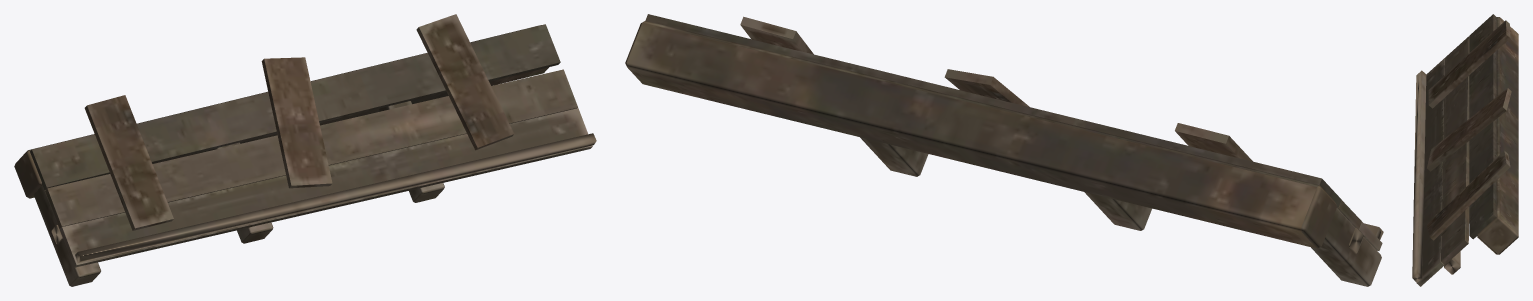
Rendered from roof.frontier.bottom.line_variant_c.glb.
The picture shows the model from 3 angles, left to right: view 1: azimuth 30°, elevation 25°; view 2: azimuth 150°, elevation 25°; view 3: azimuth 270°, elevation 25°; orthographic projection. The views are drawn at different scales.
Parts seen in each view (by area): view 1: model; view 2: model; view 3: model.
Part boxes in pixels (left/top/right/bottom): model: left=14, top=14, right=596, bottom=286; model: left=625, top=14, right=1383, bottom=286; model: left=1412, top=14, right=1518, bottom=286.
Bounding box in the file's own units: 3.03 × 0.7547 × 0.6738.
Materials: 1 (1 with a texture image).
